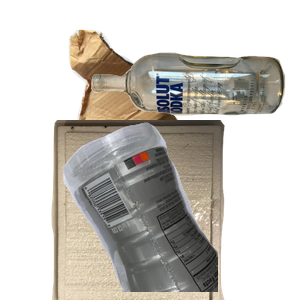cardboard: (66, 27, 242, 197)
glass: (88, 50, 300, 158)
plastic: (60, 120, 300, 300)
trash: (49, 120, 269, 300)
